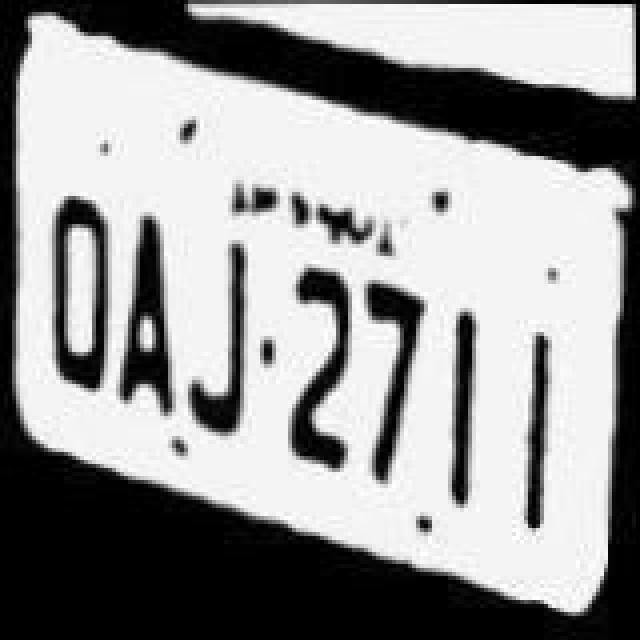1: (514, 314, 574, 566), (444, 262, 500, 522)
2: (276, 252, 360, 488)
7: (362, 266, 438, 502)
A: (110, 170, 182, 430)
J: (184, 230, 260, 450)
O: (40, 162, 116, 422)
